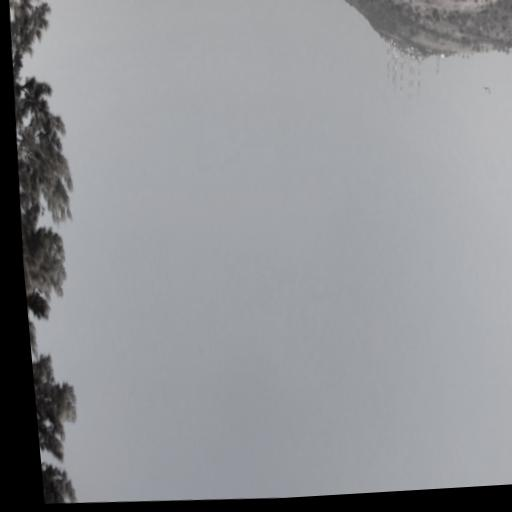drones: (481, 82, 492, 96)
